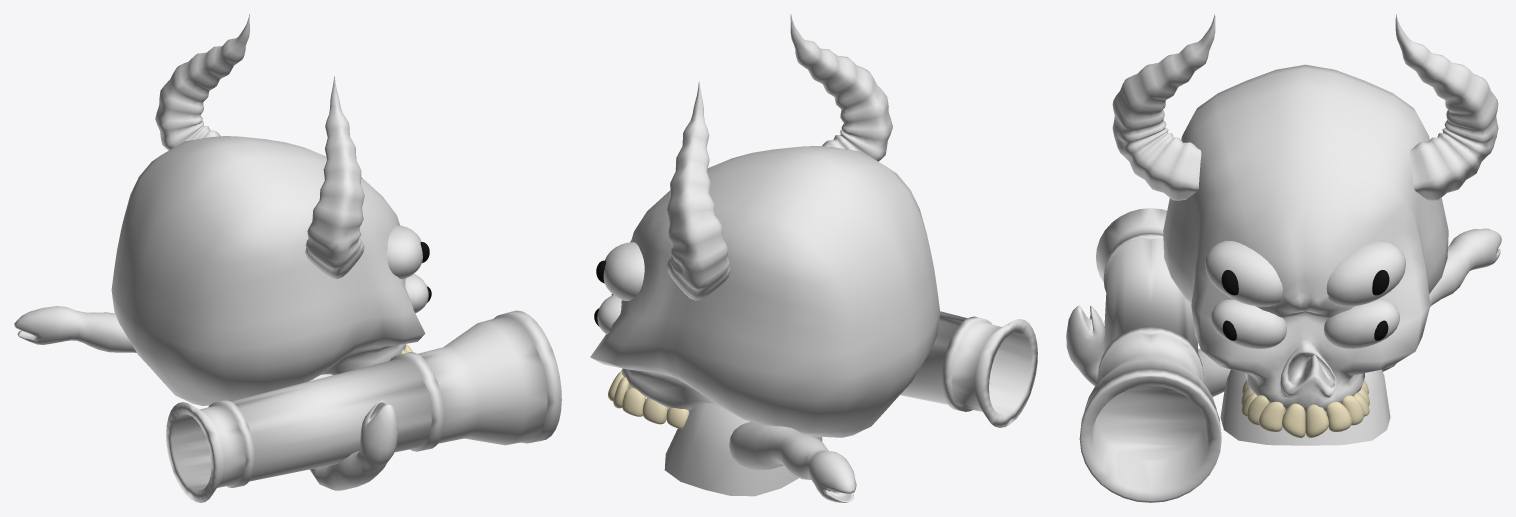
File: SkeletonCorrect.fbx
3 renders of one model, left to right at view 1: azimuth 30°, elevation 25°; view 2: azimuth 150°, elevation 25°; view 3: azimuth 270°, elevation 25°, orthographic. The views are drawn at different scales.
Parts seen in each view (by area): view 1: Skeleton3; view 2: Skeleton3; view 3: Skeleton3.
Part boxes in pixels (<box>): Skeleton3: <box>14,14,561,502</box>; Skeleton3: <box>590,14,1037,502</box>; Skeleton3: <box>1066,14,1501,502</box>.
Size of the model in its own units: 145 by 151 by 145.
